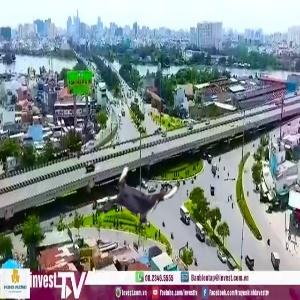drone: (102, 162, 177, 237)
